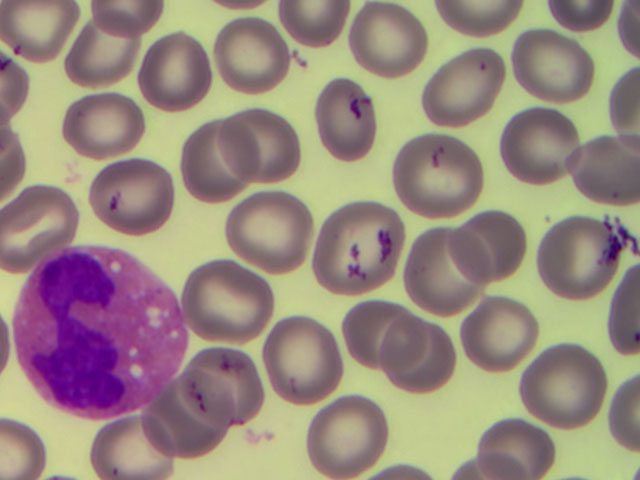RBC: (313, 203, 403, 291), (301, 76, 391, 164), (341, 1, 431, 89), (418, 45, 508, 133), (392, 129, 482, 217), (451, 202, 541, 290), (397, 230, 487, 318), (376, 316, 466, 404), (333, 294, 423, 382), (257, 315, 347, 403), (303, 392, 393, 480), (516, 345, 606, 433), (451, 291, 541, 379), (536, 216, 626, 304), (489, 105, 579, 193), (505, 29, 595, 117), (96, 406, 174, 480), (566, 126, 640, 203), (61, 89, 139, 162), (66, 15, 144, 88), (128, 36, 206, 109), (210, 20, 288, 93), (224, 108, 302, 181), (178, 126, 256, 199), (95, 159, 173, 232), (3, 190, 81, 263), (233, 194, 311, 267), (193, 254, 271, 327), (187, 350, 265, 423), (151, 385, 229, 458), (480, 403, 554, 479), (1, 1, 78, 73)
WBC: (16, 248, 182, 414)
